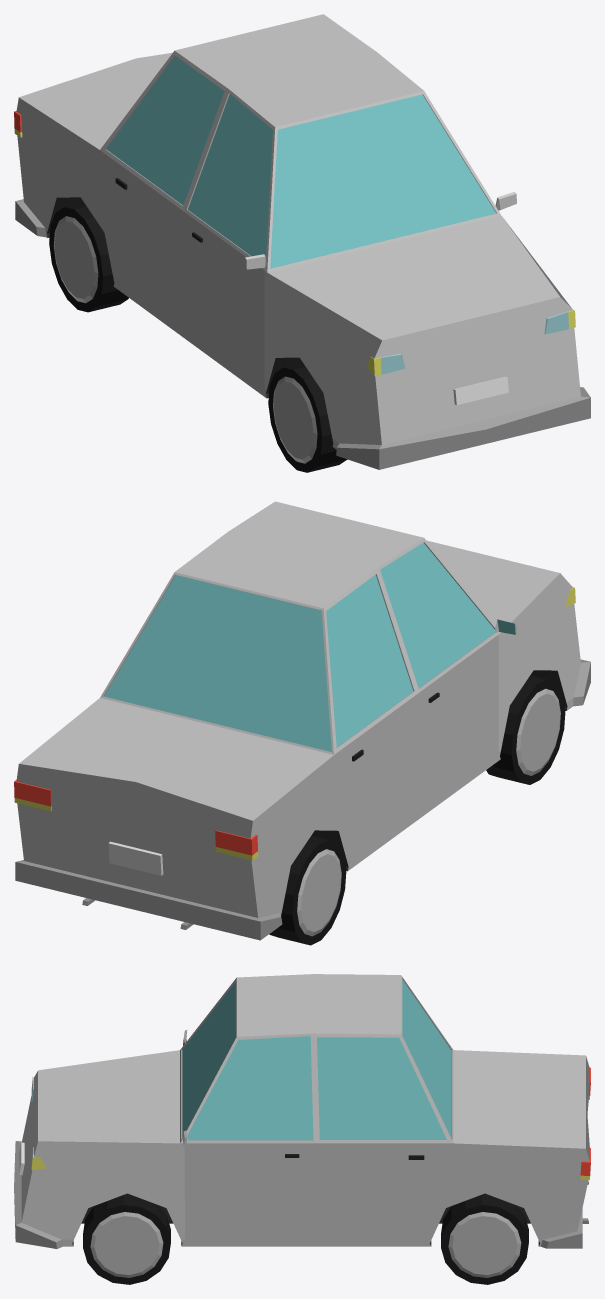
The model's file is lp_car3.fbx.
3 views of the same model, one above another, from view 1: azimuth 30°, elevation 25°; view 2: azimuth 150°, elevation 25°; view 3: azimuth 270°, elevation 25° (orthographic). The views are drawn at different scales.
Visible parts, largest first — view 1: Car, wheel_BR, wheel_FR; view 2: Car, wheel_FR, wheel_BR; view 3: Car, wheel_BL, wheel_FL.
Boxes of the visible parts, <box> form: Car: <box>14,14,590,469</box>; wheel_BR: <box>49,202,128,312</box>; wheel_FR: <box>268,362,347,472</box>; Car: <box>14,501,590,940</box>; wheel_FR: <box>486,675,565,784</box>; wheel_BR: <box>269,836,346,945</box>; Car: <box>14,974,590,1248</box>; wheel_BL: <box>441,1193,528,1284</box>; wheel_FL: <box>83,1193,170,1284</box>.
Size of the model in its own units: 231 by 233 by 522.
